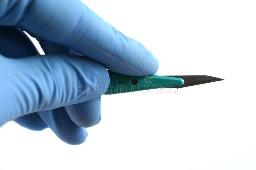scalpel: (102, 69, 226, 95)
